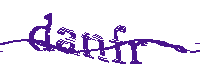a: (56, 27, 77, 55)
d: (28, 12, 55, 53)
f: (109, 24, 126, 65)
n: (81, 33, 107, 64)
r: (126, 38, 148, 67)
